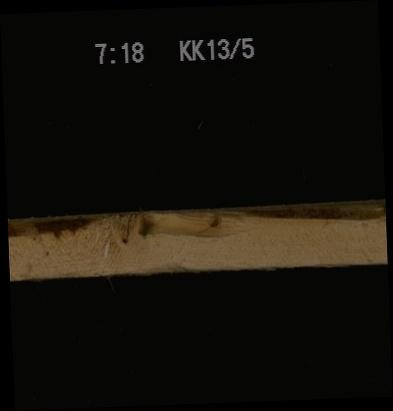wave: (7, 204, 385, 237)
